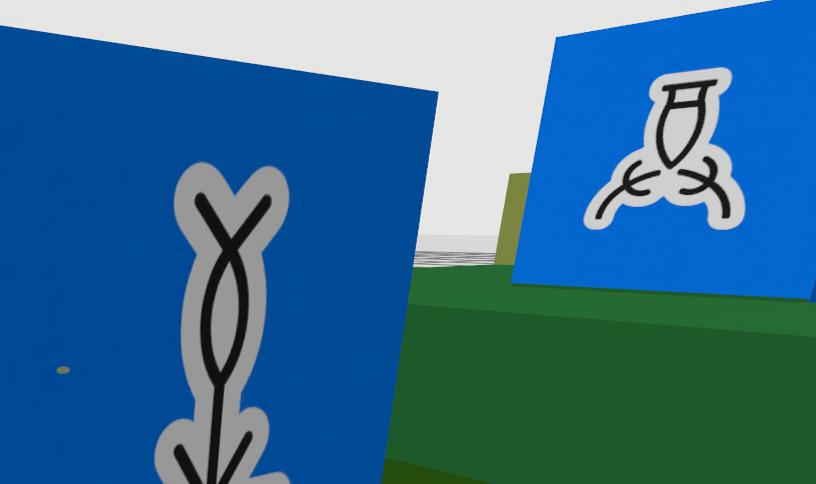KFS_REAL: (0, 28, 435, 484), (516, 0, 815, 298), (136, 162, 289, 484), (584, 67, 744, 230)
